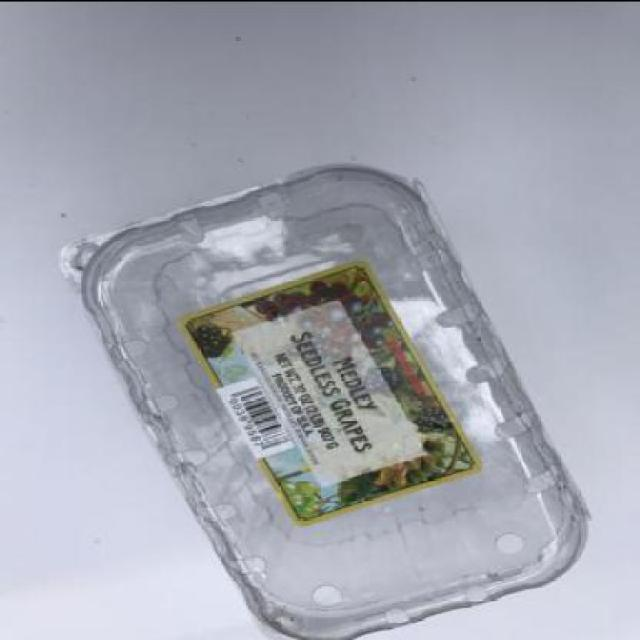PLASTIC: (56, 162, 586, 638)
